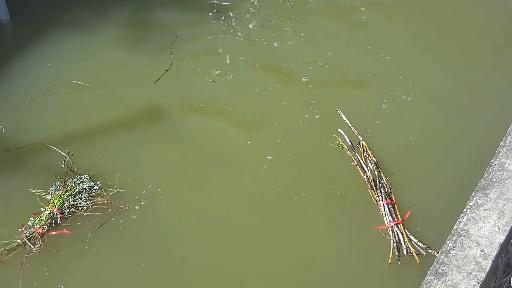twig: (0, 59, 133, 288), (326, 103, 432, 276), (154, 34, 186, 92)
